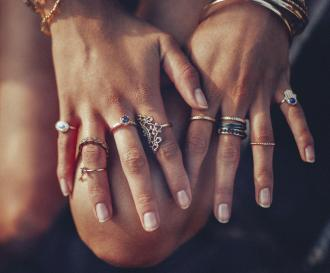finger: (106, 111, 166, 242), (136, 103, 196, 208), (272, 81, 326, 165), (77, 121, 121, 220), (246, 104, 279, 218), (213, 115, 243, 232), (176, 107, 216, 190), (49, 118, 80, 197)
